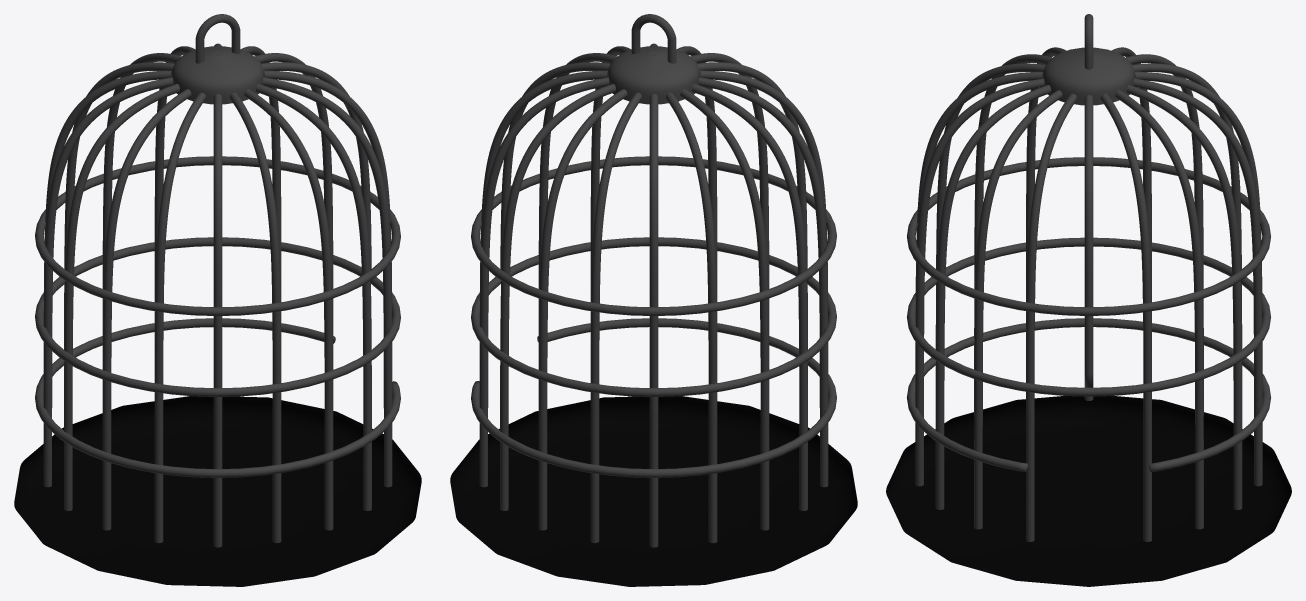
The model's file is Celda.fbx.
The picture shows the model from 3 angles, left to right: view 1: azimuth 30°, elevation 25°; view 2: azimuth 150°, elevation 25°; view 3: azimuth 270°, elevation 25°; orthographic projection.
Parts seen in each view (by area): view 1: Jaula; view 2: Jaula; view 3: Jaula.
Boxes of the visible parts, x1,y1,x2,y2 form: Jaula: (14,14,421,586); Jaula: (450,14,857,586); Jaula: (886,14,1291,586).
Size of the model in its own units: 850 by 1126 by 842.
